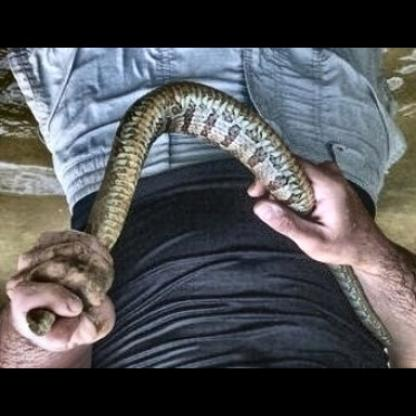Snake: (4, 73, 413, 366)
